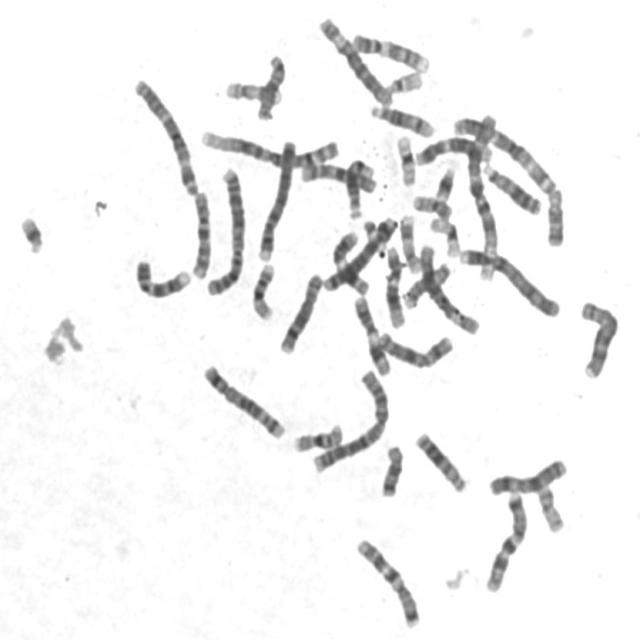A1: (458, 107, 502, 285), (196, 121, 342, 170)
A2: (308, 364, 392, 474), (201, 160, 250, 298)
A3: (451, 109, 559, 218), (128, 70, 202, 196)
B4: (454, 241, 563, 320), (252, 131, 298, 263)
B5: (198, 357, 288, 441), (319, 211, 402, 293)
C10: (295, 154, 380, 194), (186, 184, 214, 281)
C11: (349, 290, 393, 377), (328, 225, 373, 297)
C12: (409, 130, 496, 167), (381, 240, 408, 330)
C6: (314, 9, 396, 107), (414, 236, 482, 336)
C7: (351, 532, 424, 630), (480, 485, 530, 594)
C8: (274, 266, 325, 356), (574, 294, 622, 382)
C9: (347, 26, 432, 74), (129, 250, 194, 300)
D13: (410, 425, 470, 495), (478, 155, 544, 217)
D14: (365, 97, 438, 139), (342, 152, 378, 220)
D15: (399, 256, 454, 310), (252, 48, 289, 121)
E16: (288, 417, 346, 454), (246, 256, 278, 322)
E17: (219, 74, 285, 106), (394, 208, 424, 275)
E18: (376, 438, 406, 500), (541, 183, 566, 248)
F19: (425, 210, 463, 258), (390, 128, 419, 188)
F20: (531, 479, 567, 534), (408, 188, 454, 222)
G21: (14, 208, 47, 255), (431, 159, 459, 203)
G22: (382, 64, 427, 95), (362, 215, 384, 250)
X: (484, 451, 570, 497), (375, 324, 456, 371)
